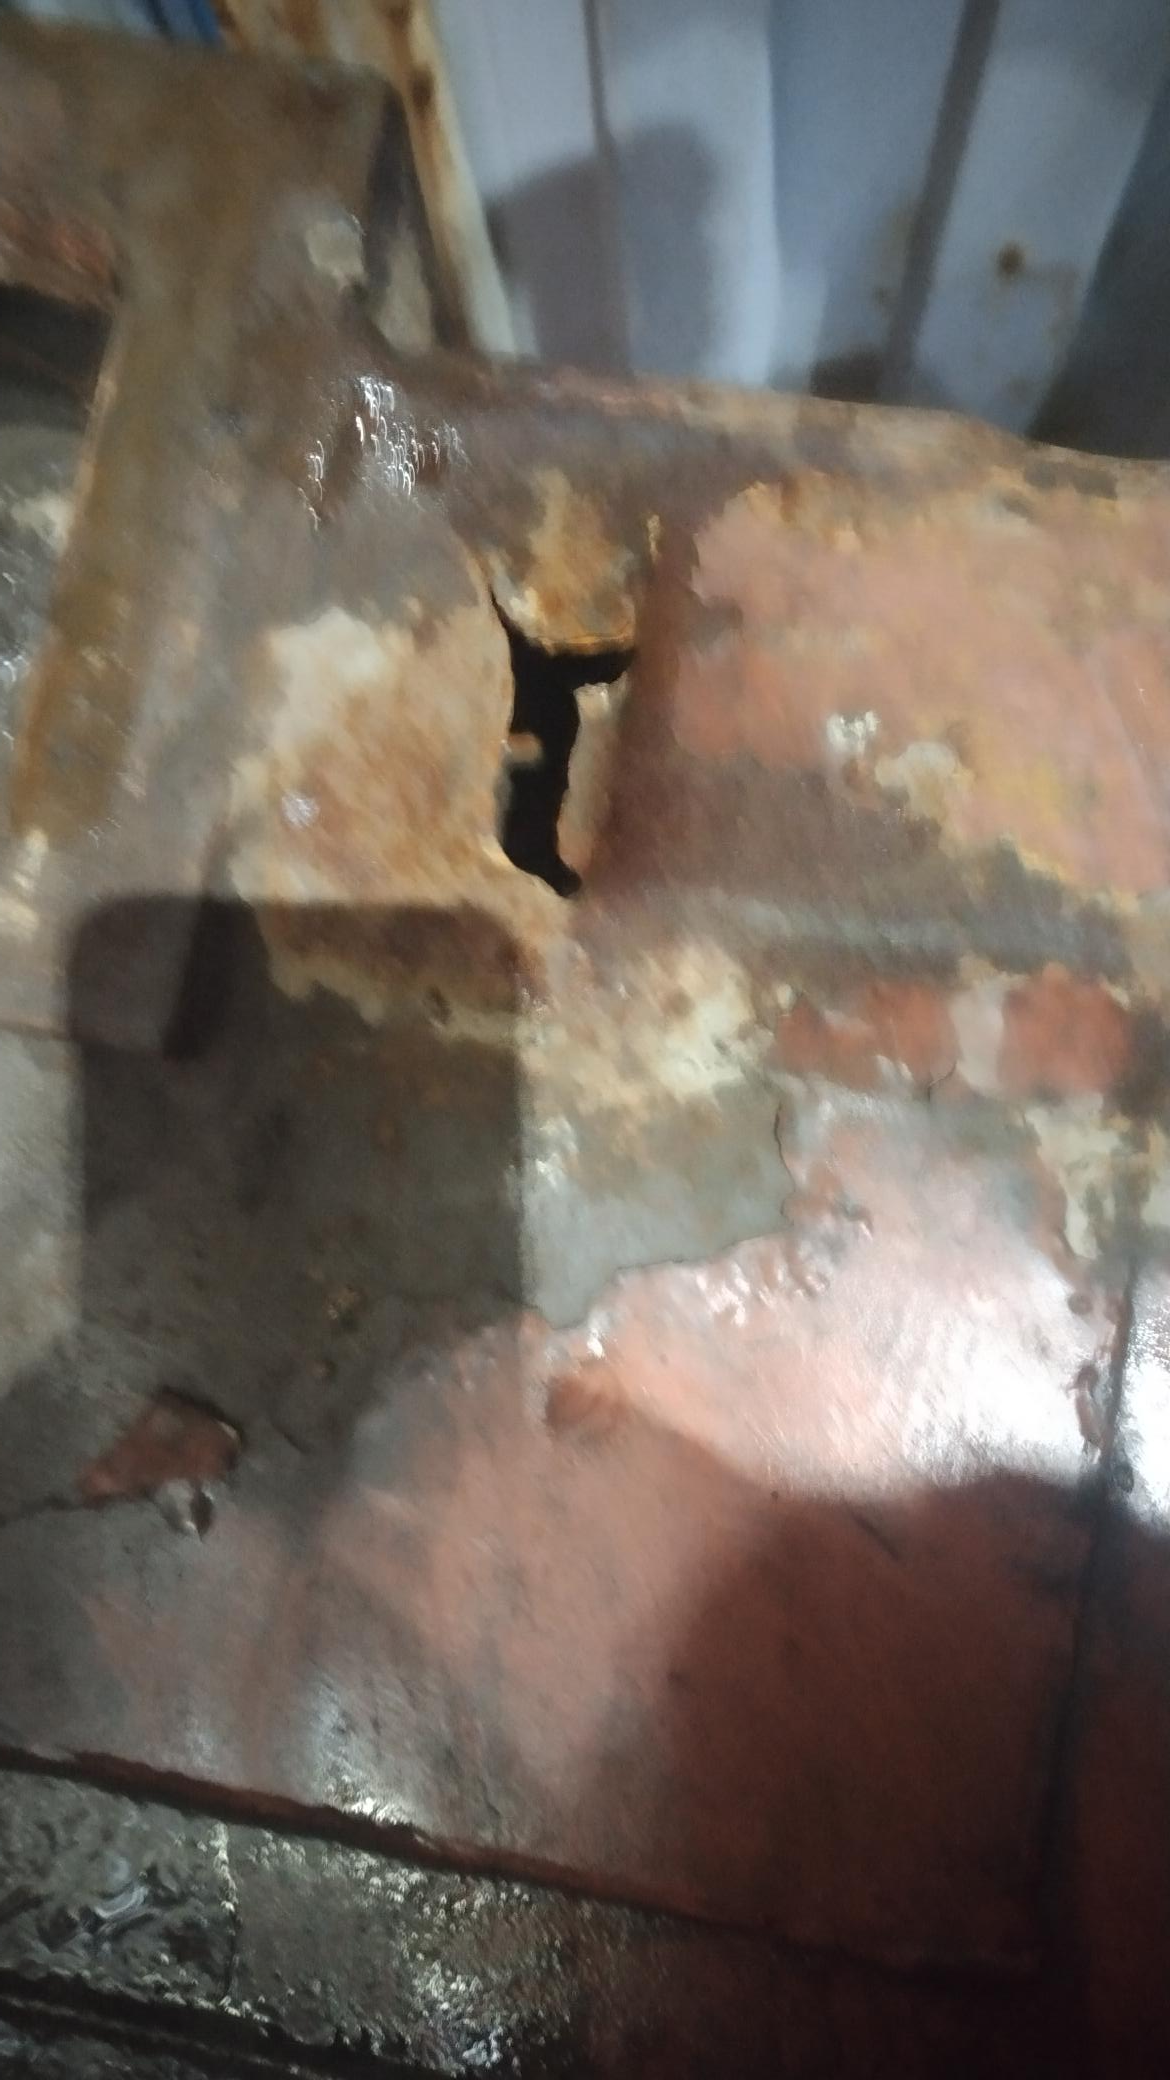severe: (386, 524, 683, 930)
